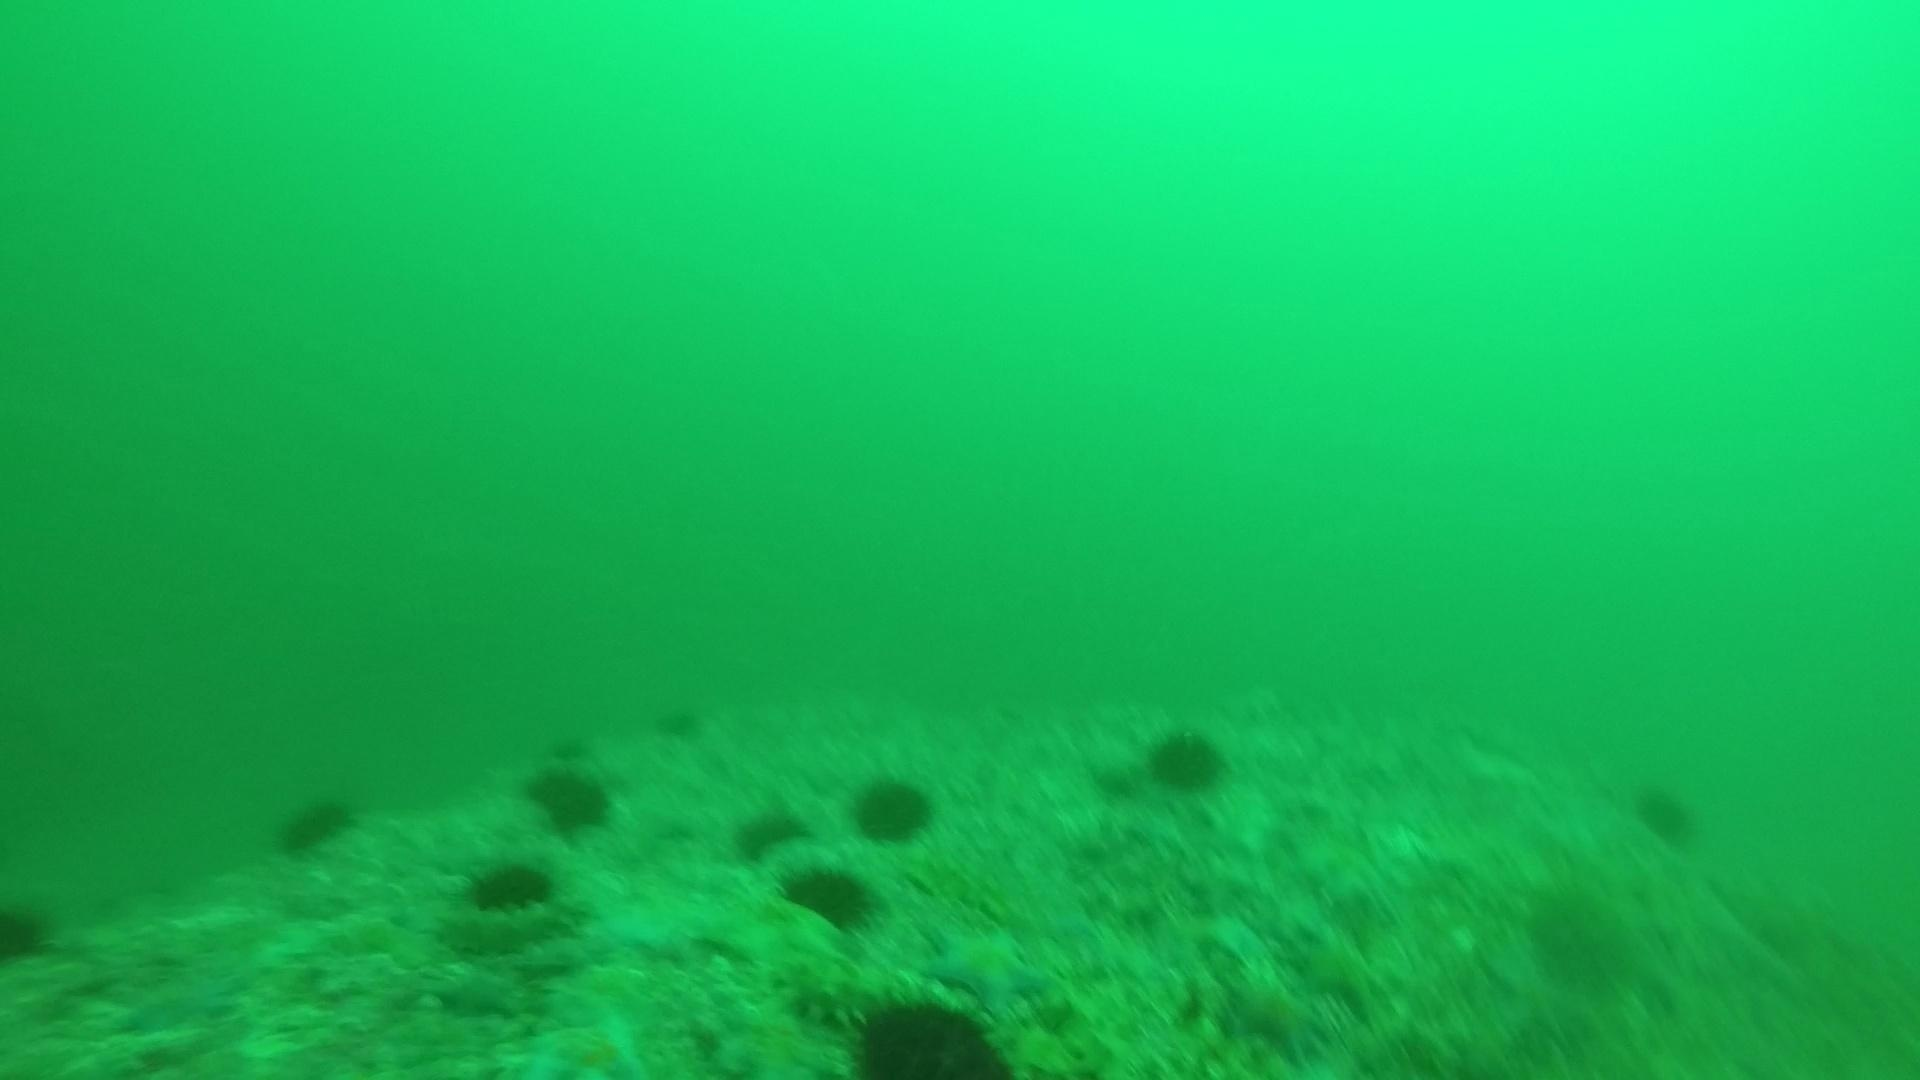echinus: (843, 988, 1011, 1077), (1523, 882, 1636, 992), (778, 857, 880, 934), (524, 757, 616, 837), (849, 769, 938, 847), (1141, 723, 1230, 796), (463, 853, 556, 918), (274, 789, 359, 857), (731, 800, 810, 862), (1631, 779, 1700, 845), (1, 895, 55, 967), (651, 698, 705, 742), (535, 723, 589, 767)
starfish: (922, 916, 1054, 1019), (1218, 964, 1337, 1065), (709, 1002, 851, 1077), (1288, 916, 1385, 1015), (506, 1011, 650, 1077), (725, 895, 847, 972), (588, 887, 711, 957), (111, 971, 243, 1035)
